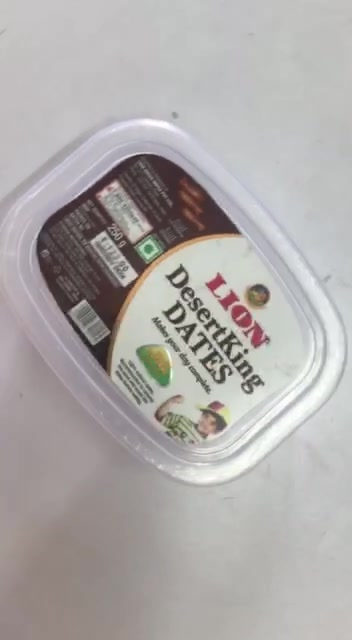Lion dates: (3, 121, 346, 487)
